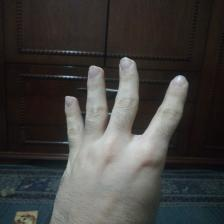four: (50, 54, 192, 223)
